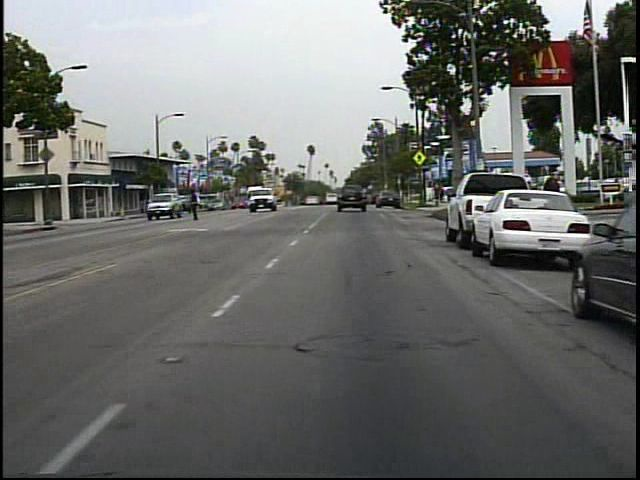person: (537, 169, 564, 226), (186, 183, 206, 224)
